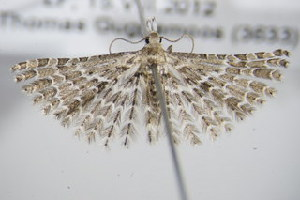Alucitidae: (10, 15, 294, 152)
moth: (8, 13, 292, 150)
